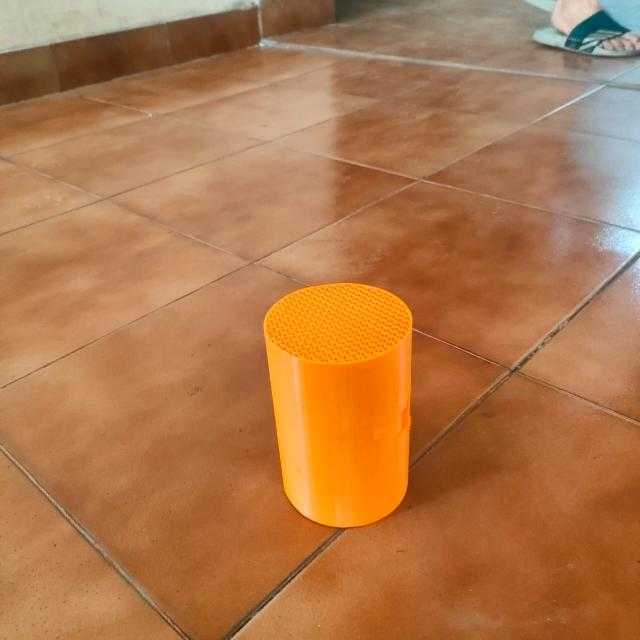Cylinder: (262, 281, 414, 528)
